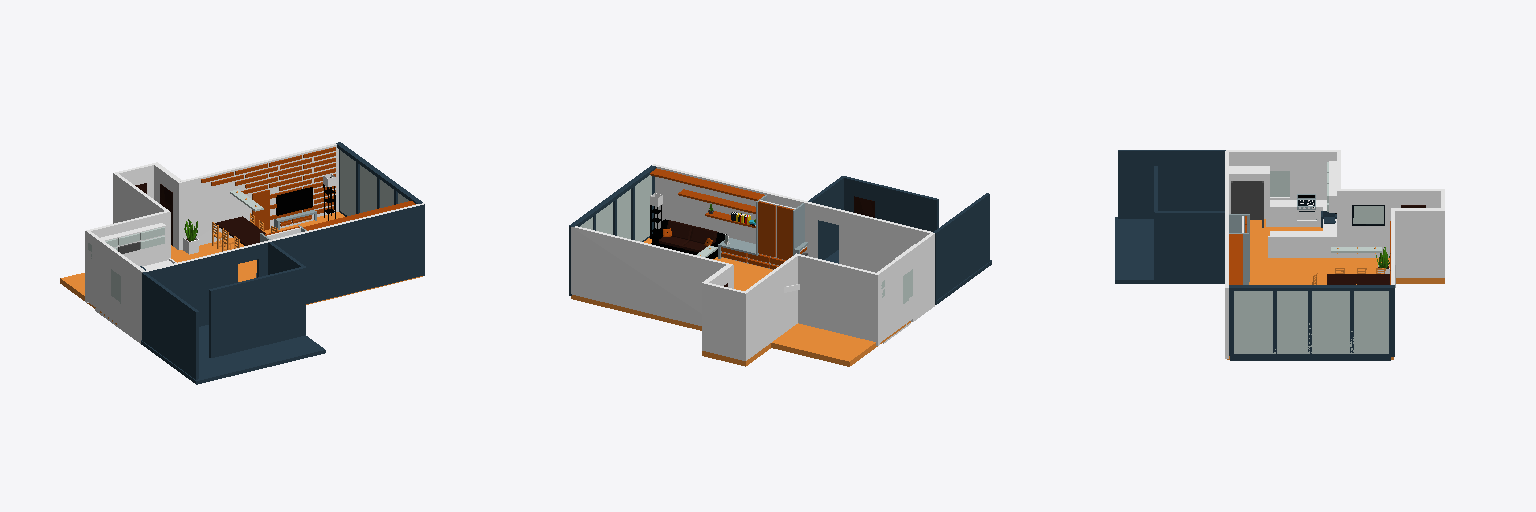
3 views of the same model, side by side, from view 1: azimuth 30°, elevation 25°; view 2: azimuth 150°, elevation 25°; view 3: azimuth 270°, elevation 25° (orthographic).
Visible parts, largest first — view 1: group[number redacted], group[number redacted], group[number redacted], group[number redacted], group[number redacted], group[number redacted], group[number redacted], group[number redacted], group[number redacted], group[number redacted], group[number redacted], group[number redacted] (+9 smaller); view 2: group[number redacted], group[number redacted], group[number redacted], group[number redacted], group[number redacted], group[number redacted], group[number redacted], group[number redacted], group[number redacted], group[number redacted], group[number redacted], group[number redacted] (+8 smaller); view 3: group[number redacted], group[number redacted], group[number redacted], group[number redacted], group[number redacted], group[number redacted], group[number redacted], group[number redacted], group[number redacted], group[number redacted], group[number redacted], group[number redacted] (+7 smaller).
Part boxes in pixels (left/top/right/bottom): group[number redacted]: left=257, top=203, right=424, bottom=303; group[number redacted]: left=209, top=267, right=305, bottom=357; group[number redacted]: left=177, top=143, right=338, bottom=249; group[number redacted]: left=142, top=272, right=198, bottom=379; group[number redacted]: left=141, top=325, right=325, bottom=384; group[number redacted]: left=141, top=248, right=237, bottom=339; group[number redacted]: left=336, top=142, right=422, bottom=216; group[number redacted]: left=60, top=212, right=422, bottom=324; group[number redacted]: left=85, top=211, right=166, bottom=302; group[number redacted]: left=115, top=174, right=170, bottom=259; group[number redacted]: left=121, top=256, right=144, bottom=343; group[number redacted]: left=87, top=223, right=165, bottom=259; group[number redacted]: left=571, top=226, right=733, bottom=325; group[number redacted]: left=798, top=254, right=879, bottom=345; group[number redacted]: left=652, top=164, right=819, bottom=258; group[number redacted]: left=571, top=238, right=910, bottom=366; group[number redacted]: left=933, top=193, right=989, bottom=300; group[number redacted]: left=839, top=210, right=934, bottom=304; group[number redacted]: left=745, top=253, right=798, bottom=358; group[number redacted]: left=569, top=165, right=656, bottom=295; group[number redacted]: left=844, top=176, right=938, bottom=231; group[number redacted]: left=705, top=282, right=747, bottom=360; group[number redacted]: left=910, top=233, right=934, bottom=321; group[number redacted]: left=808, top=176, right=844, bottom=259; group[number redacted]: left=1229, top=285, right=1394, bottom=360; group[number redacted]: left=1118, top=150, right=1225, bottom=218; group[number redacted]: left=1155, top=211, right=1224, bottom=283; group[number redacted]: left=1227, top=219, right=1393, bottom=359; group[number redacted]: left=1337, top=189, right=1440, bottom=257; group[number redacted]: left=1394, top=208, right=1444, bottom=277; group[number redacted]: left=1115, top=217, right=1153, bottom=283; group[number redacted]: left=1268, top=236, right=1336, bottom=257; group[number redacted]: left=1270, top=150, right=1336, bottom=170; group[number redacted]: left=1233, top=181, right=1261, bottom=219; group[number redacted]: left=1270, top=200, right=1324, bottom=226; group[number redacted]: left=1290, top=171, right=1326, bottom=198.
Bounding box in the file's own units: 1.67 × 0.42 × 1.68.